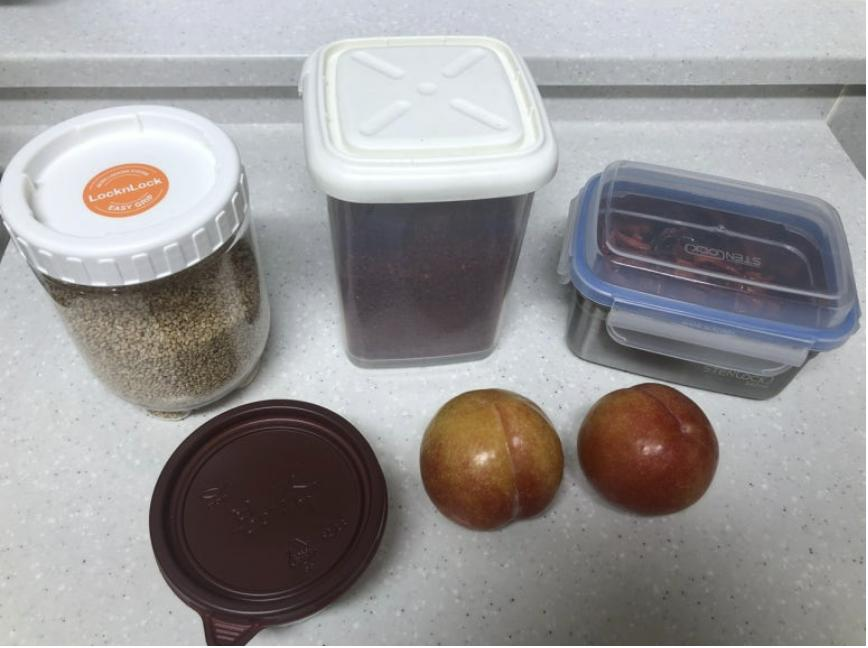cup: (149, 400, 387, 644)
